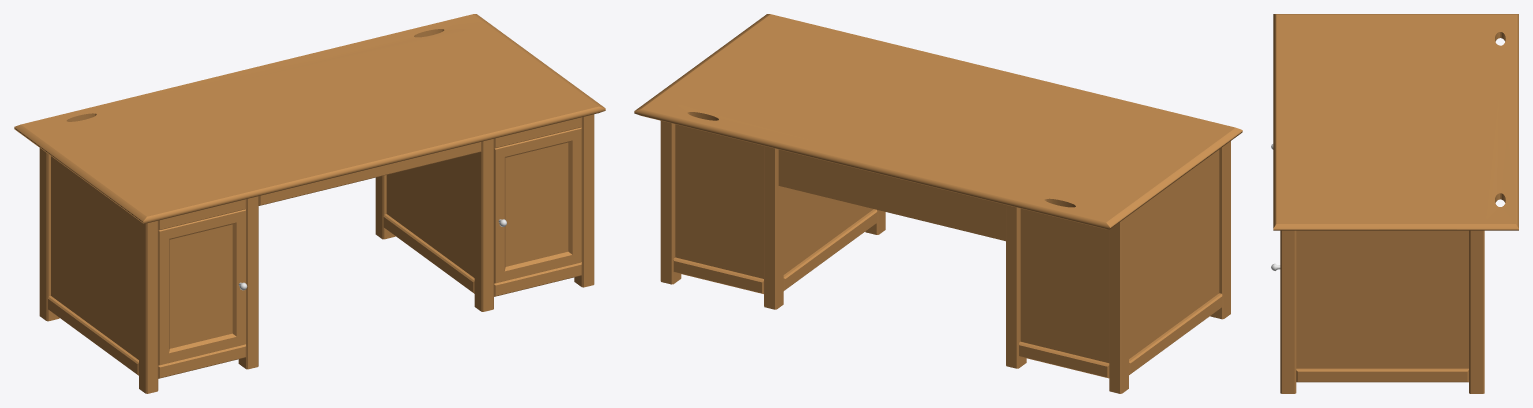
Rendered from desk.fbx.
The picture shows the model from 3 angles, left to right: view 1: azimuth 30°, elevation 25°; view 2: azimuth 150°, elevation 25°; view 3: azimuth 270°, elevation 25°; orthographic projection. The views are drawn at different scales.
Parts seen in each view (by area): view 1: pCube3, desk, door1, door2; view 2: desk, pCube3; view 3: pCube3, desk.
Part boxes in pixels (x1,y1,x2,y2): pCube3: (14,14,605,223); desk: (39,114,594,393); door1: (158,209,245,365); door2: (494,127,581,283); desk: (660,121,1230,393); pCube3: (634,14,1242,229); pCube3: (1273,14,1518,230); desk: (1280,230,1484,393).
Bounding box in the file's own units: 184 × 68.29 × 89.86.
